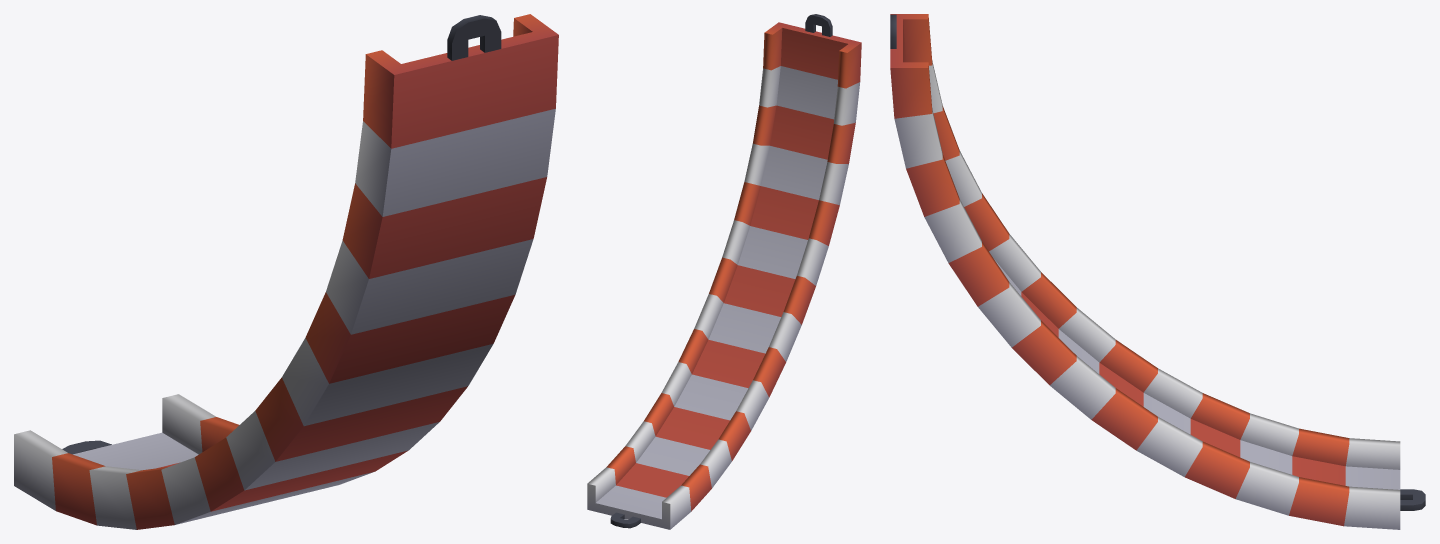
File: track-striped-narrow-straight-bend-large.glb
3 renders of one model, left to right at view 1: azimuth 30°, elevation 25°; view 2: azimuth 150°, elevation 25°; view 3: azimuth 270°, elevation 25°, orthographic. The views are drawn at different scales.
Parts seen in each view (by area): view 1: track-striped-narrow-straight-bend-large; view 2: track-striped-narrow-straight-bend-large; view 3: track-striped-narrow-straight-bend-large.
Part boxes in pixels (x1,y1,x2,y2): track-striped-narrow-straight-bend-large: (14,14,558,529); track-striped-narrow-straight-bend-large: (587,14,861,529); track-striped-narrow-straight-bend-large: (890,14,1425,529).
Size of the model in its own units: 1 by 4.2 by 4.2.
